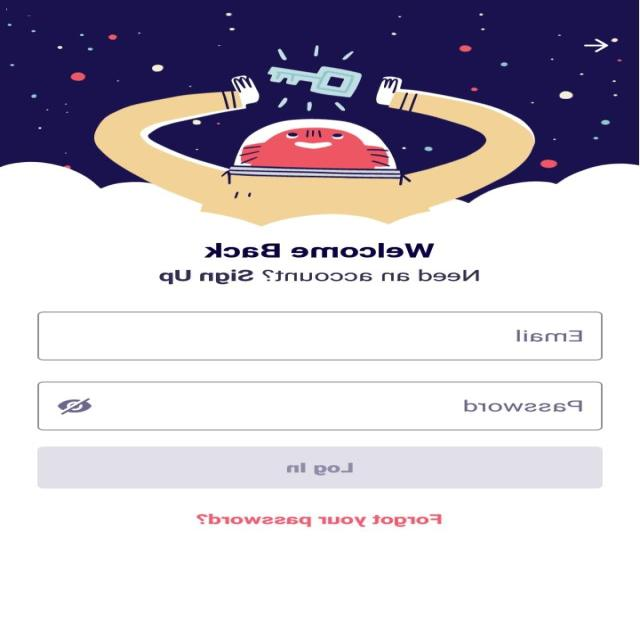EditText: (38, 381, 604, 431), (38, 312, 604, 361)
Icon: (58, 398, 94, 415), (584, 38, 609, 52)
Image: (1, 0, 640, 226)
Text: (159, 269, 479, 284), (196, 513, 442, 527), (204, 243, 436, 257), (464, 399, 582, 411), (516, 329, 582, 342)
TextButton: (38, 446, 604, 489)
